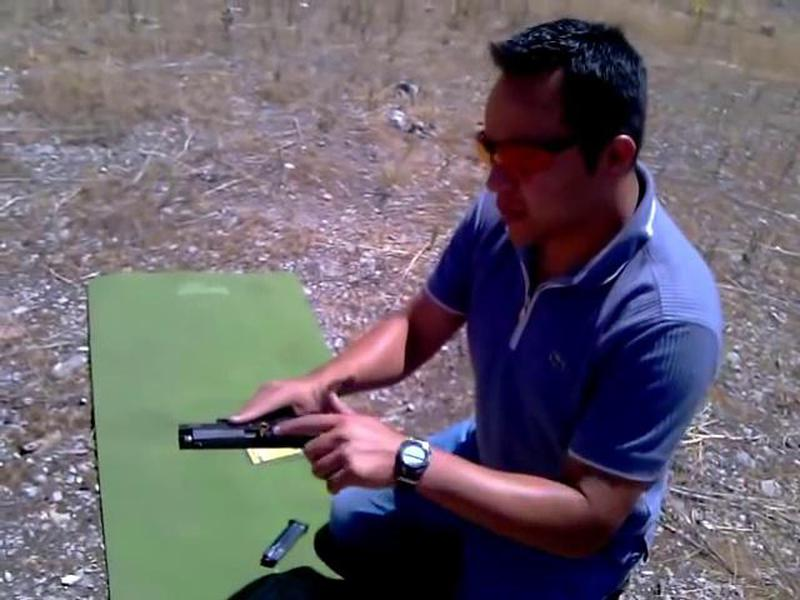Pistola: (124, 408, 377, 460)
